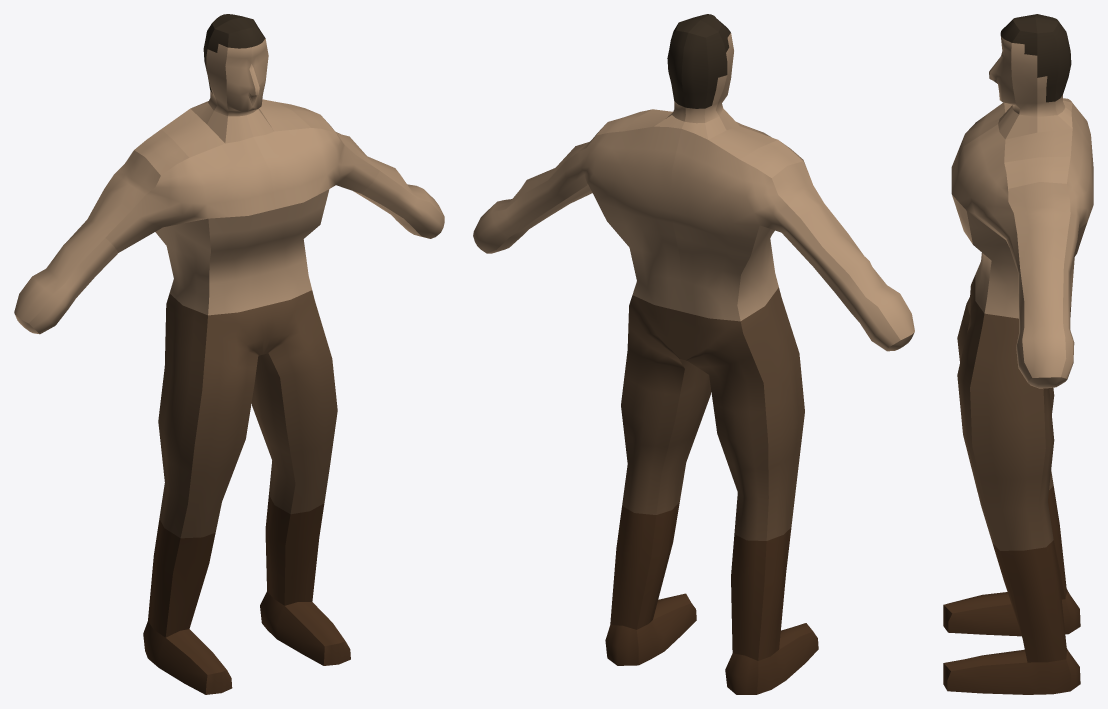
The model's file is bjorn_v1.3.dae.
3 renders of one model, left to right at view 1: azimuth 30°, elevation 25°; view 2: azimuth 150°, elevation 25°; view 3: azimuth 270°, elevation 25°, orthographic. The views are drawn at different scales.
Visible parts, largest first — view 1: polySurface1; view 2: polySurface1; view 3: polySurface1.
Boxes of the visible parts, box(x1,y1,x2,y2) form: polySurface1: box(14, 14, 444, 694); polySurface1: box(473, 14, 914, 694); polySurface1: box(943, 14, 1093, 694).
Size of the model in its own units: 7.53 by 10.63 by 2.27.
